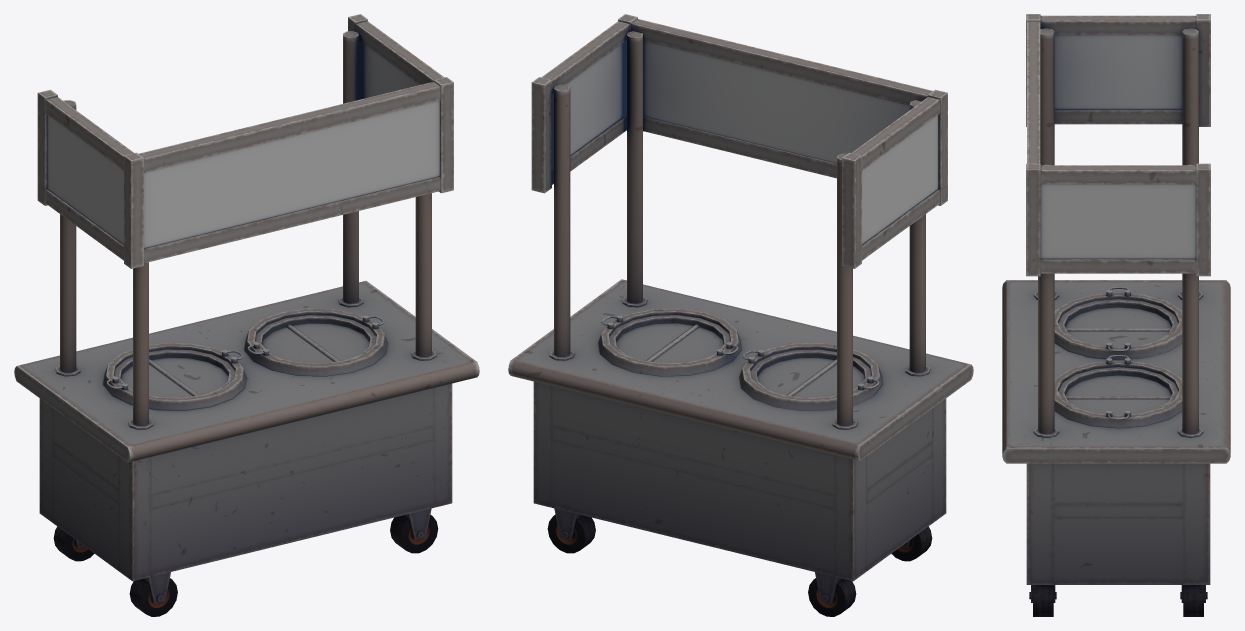
File: Food_Vendor.fbx
The picture shows the model from 3 angles, left to right: view 1: azimuth 30°, elevation 25°; view 2: azimuth 150°, elevation 25°; view 3: azimuth 270°, elevation 25°; orthographic projection.
Parts seen in each view (by area): view 1: Food_Vendor; view 2: Food_Vendor; view 3: Food_Vendor.
Boxes of the visible parts, x1=… form: Food_Vendor: x1=14, y1=14, x2=479, y2=616; Food_Vendor: x1=508, y1=14, x2=973, y2=616; Food_Vendor: x1=1002, y1=14, x2=1230, y2=616.
Bounding box in the file's own units: 172 × 219 × 98.76.
